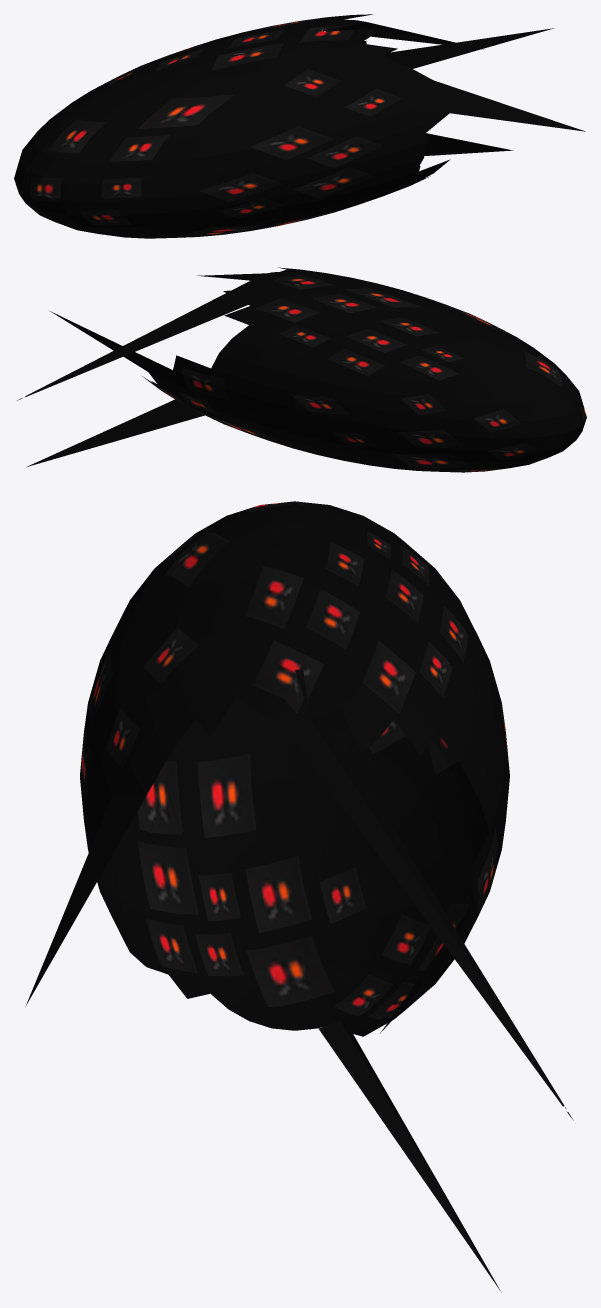
File: old_nook.obj
3 renders of one model, top to bottom at view 1: azimuth 30°, elevation 25°; view 2: azimuth 150°, elevation 25°; view 3: azimuth 270°, elevation 25°, orthographic. The views are drawn at different scales.
Parts seen in each view (by area): view 1: Sphere_Sphere.001; view 2: Sphere_Sphere.001; view 3: Sphere_Sphere.001.
Boxes of the visible parts, box(x1,y1,x2,y2) form: Sphere_Sphere.001: box(14, 14, 585, 238); Sphere_Sphere.001: box(17, 267, 586, 472); Sphere_Sphere.001: box(25, 501, 573, 1290).
Size of the model in its own units: 26.53 by 10.08 by 12.37.
